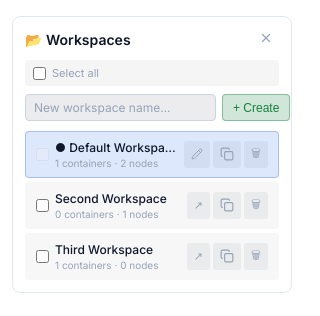
Test: WorkspaceManager › select all checks all non-active workspaces
Step 1. Click the checkbox named "Select all workspaces" → (40, 73), box [33,66,46,80]
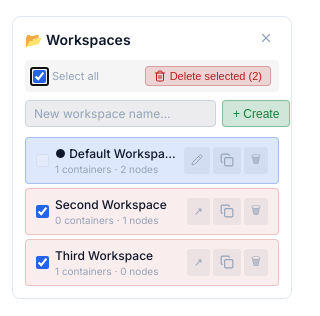
Expected: the checkbox named "Select Second Workspace" is checked, [36,205,49,218]
Expected: the checkbox named "Select Third Workspace" is checked, [36,256,49,269]
Expected: the button "Delete selected (2)" is shown, [145,66,271,86]
